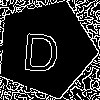D: (21, 24, 62, 72)
